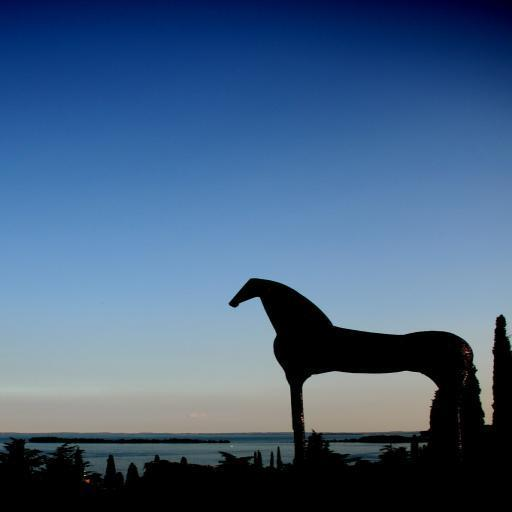horse: (226, 276, 474, 444)
